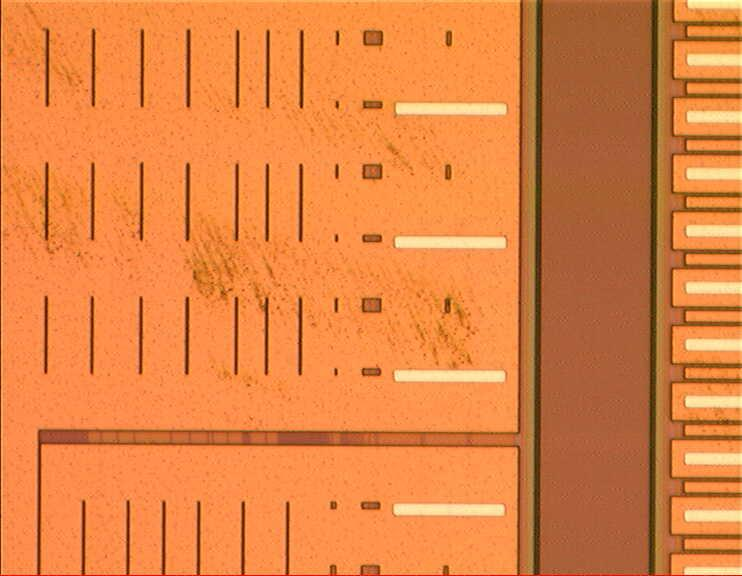SCRATCH: (1, 1, 508, 454)
